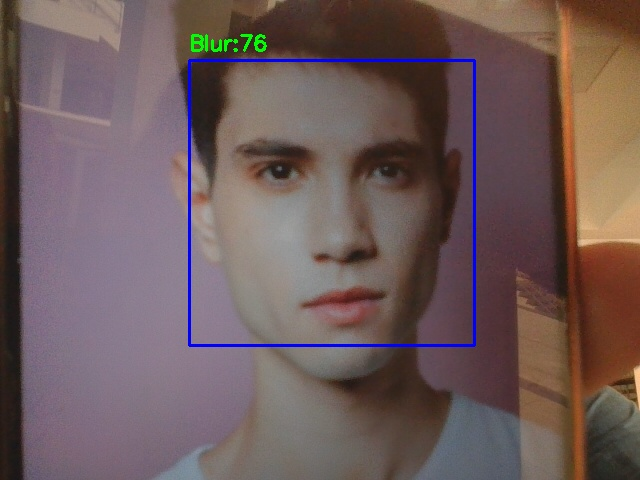fake: (189, 60, 474, 345)
